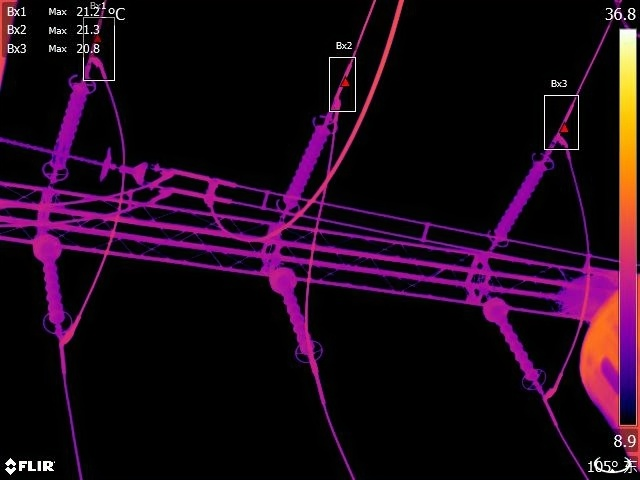clamp: (47, 323, 84, 353), (193, 173, 223, 208), (534, 379, 561, 407), (327, 83, 349, 114), (550, 125, 575, 150), (85, 44, 108, 71)
insulator: (477, 287, 552, 395), (272, 106, 341, 219), (38, 63, 102, 184), (486, 140, 558, 247), (268, 264, 325, 367), (28, 228, 72, 325)
